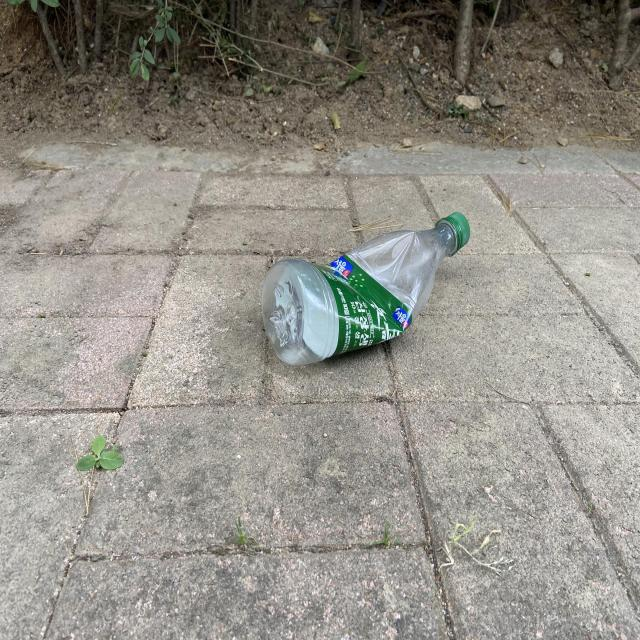plastic: (262, 211, 471, 365)
